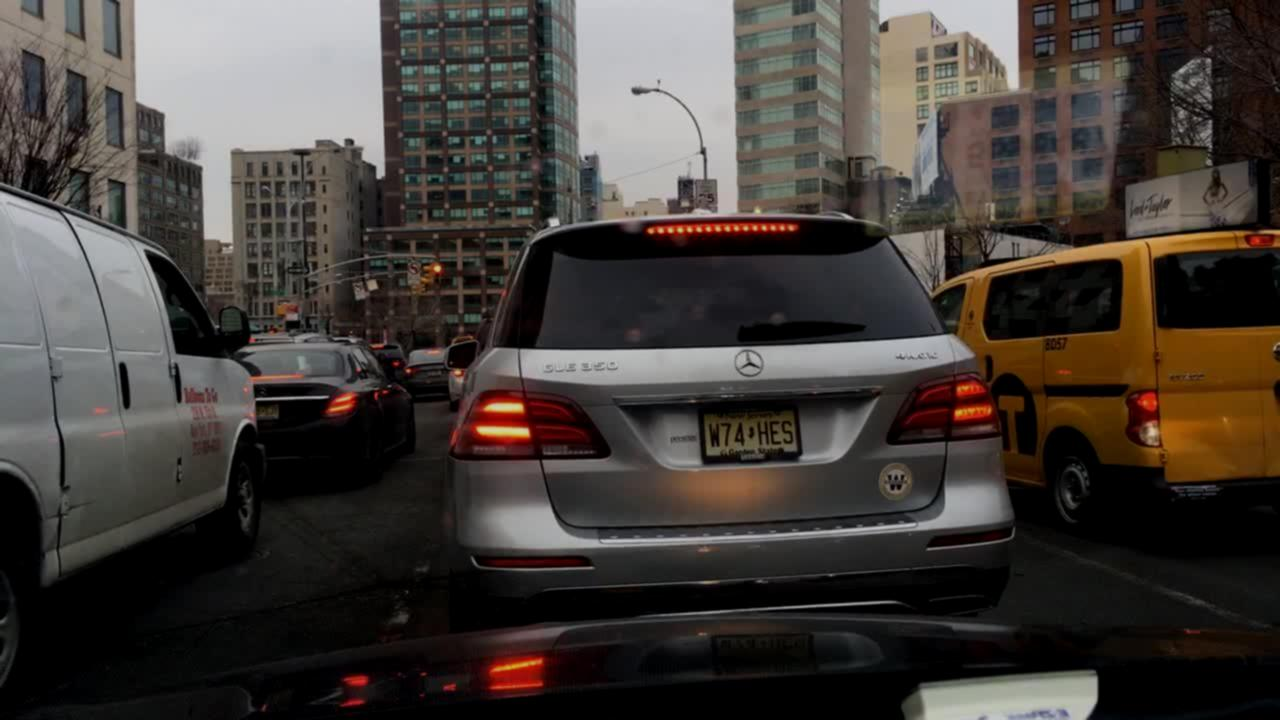Mercedes: (733, 347, 767, 380)
